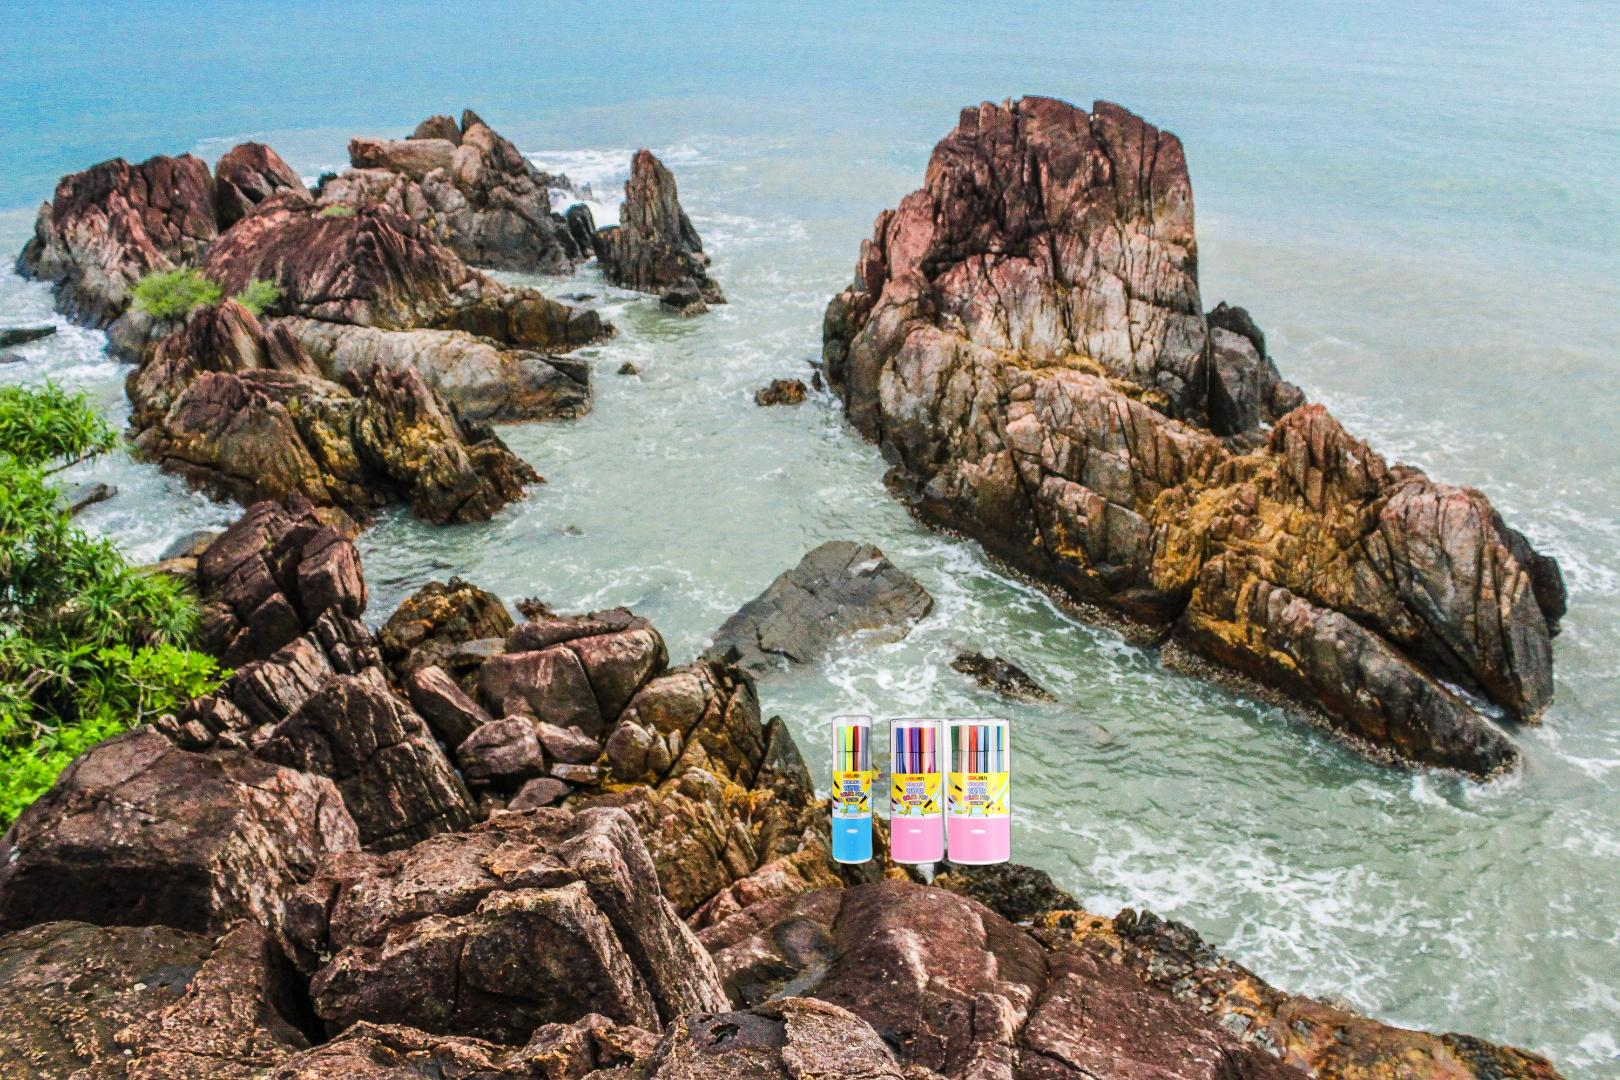penholder: (829, 706, 1019, 868)
